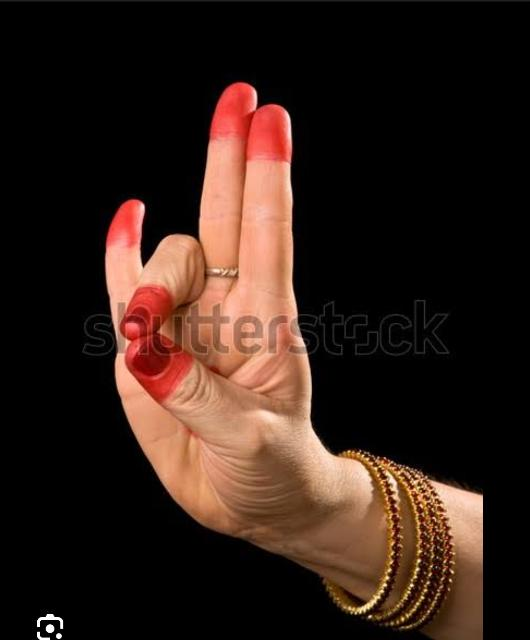mayur: (102, 84, 457, 635)
